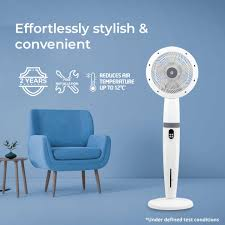TableFan: (146, 45, 193, 209)
